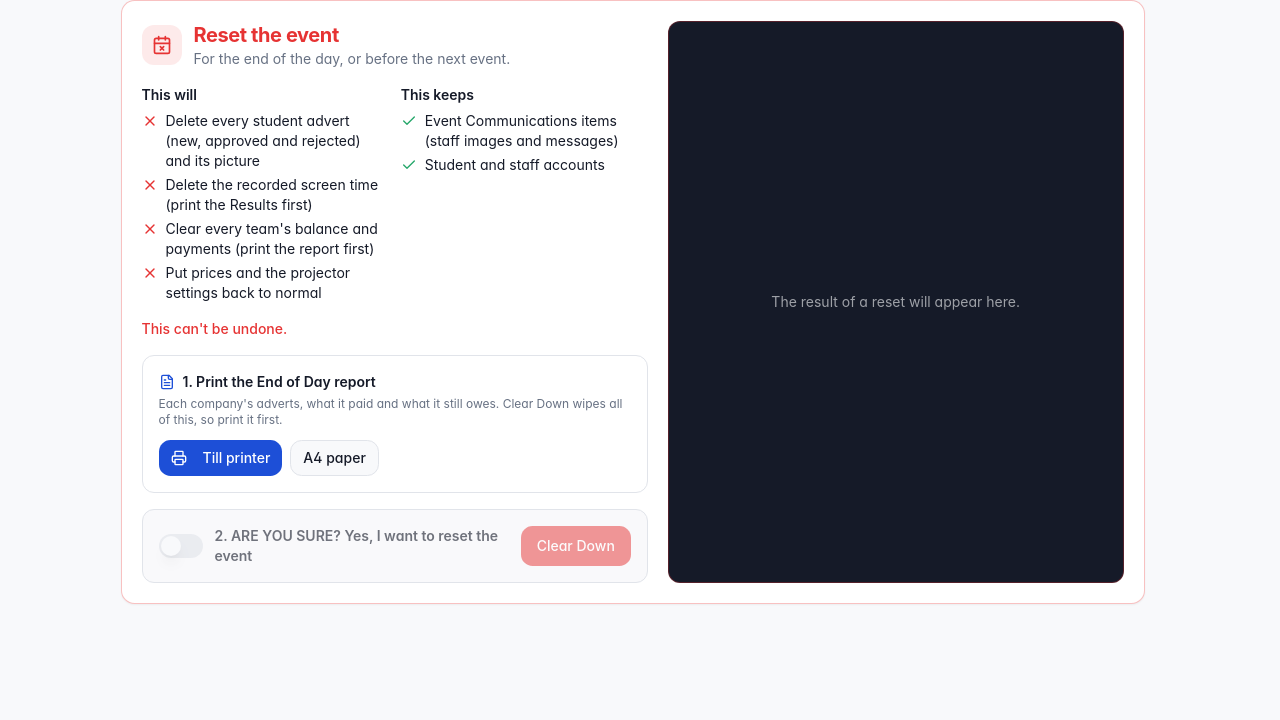
Test: EventResetPanel (issue #34) › cancelling the final question changes nothing
The width and height of the screenshot is (1280, 720).
Click the button "Till printer": [220, 458] box [158, 440, 282, 476]
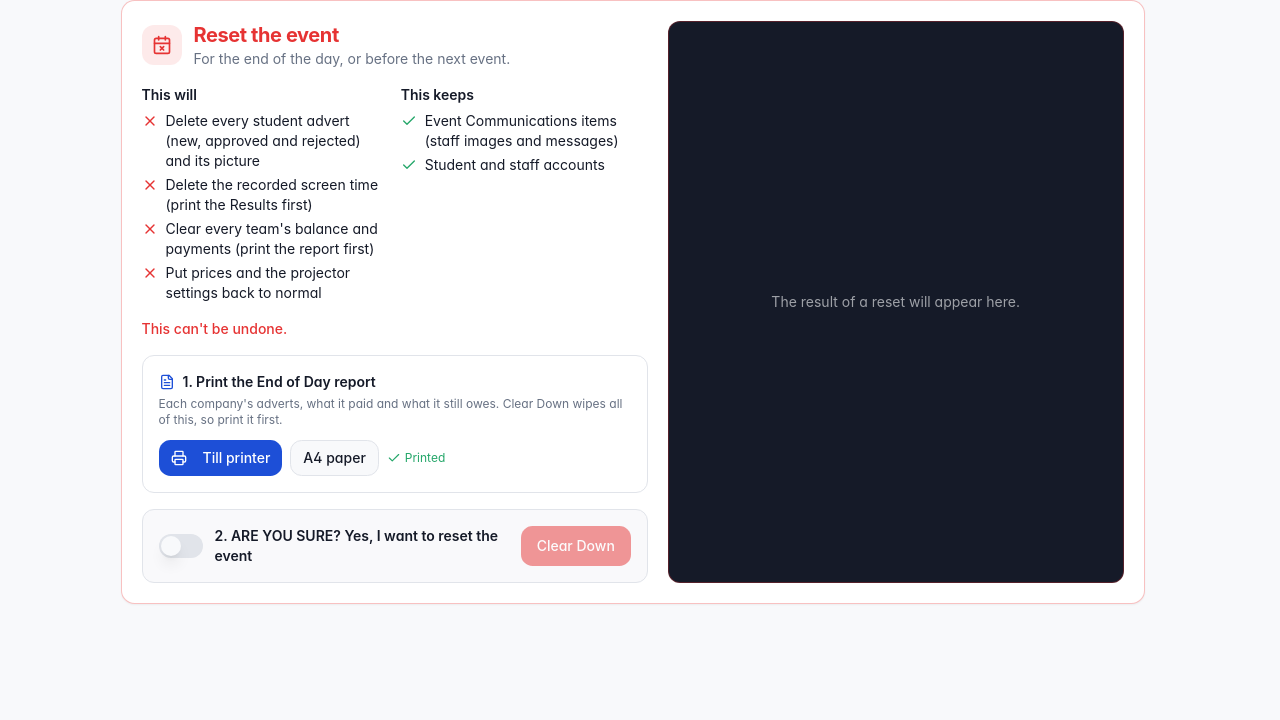
Click the switch named "reset the event": [180, 546] box [158, 534, 202, 558]
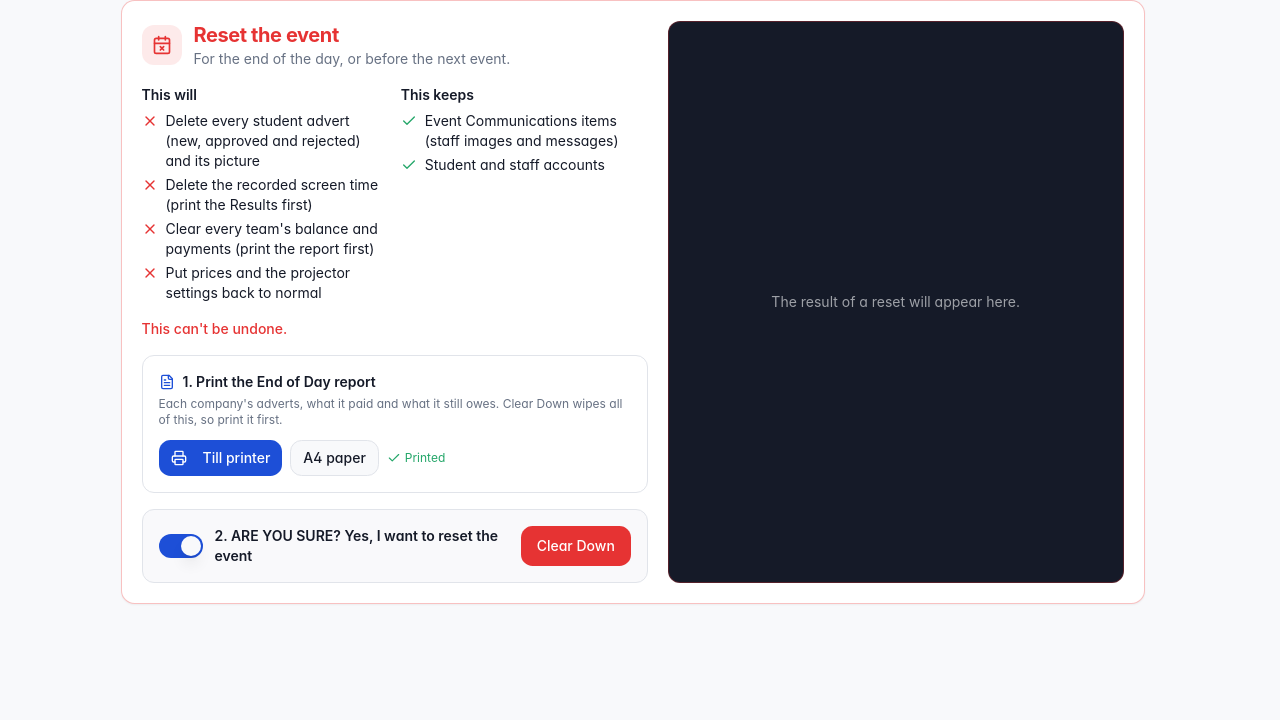
Click the button "Clear Down": [576, 546] box [521, 526, 631, 566]
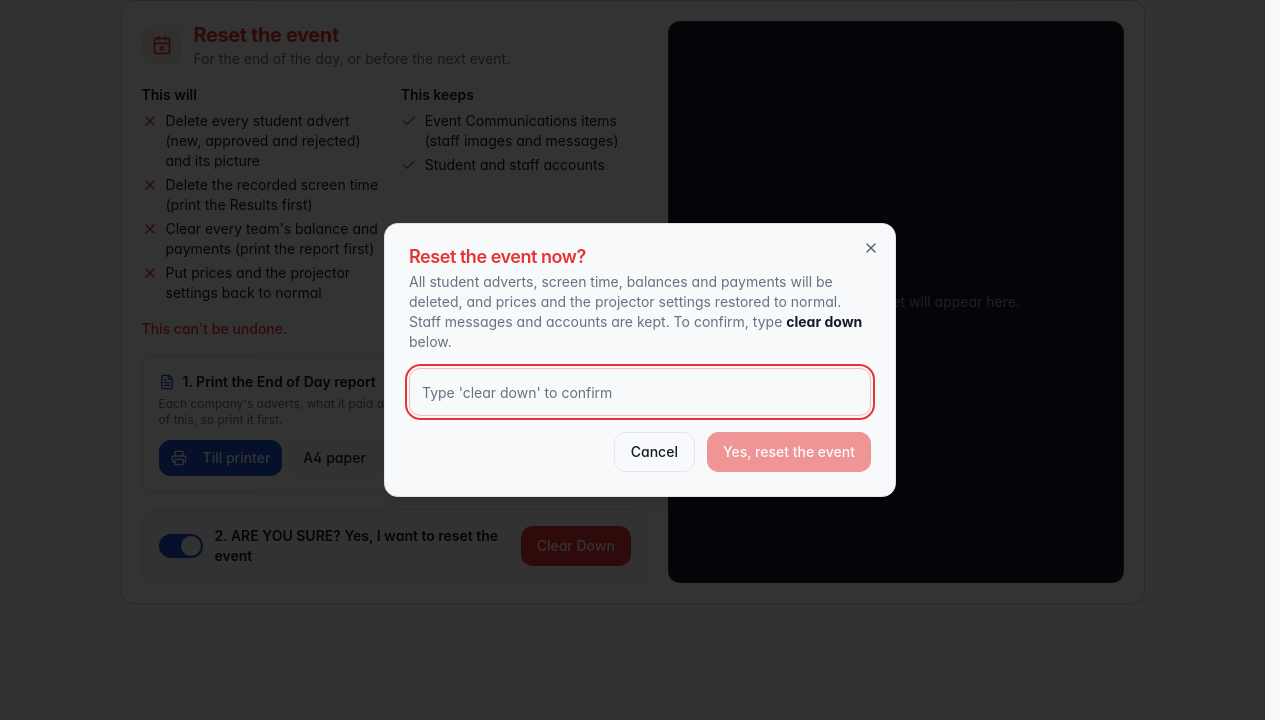
Click the button "Cancel": [654, 452] box [614, 432, 695, 472]
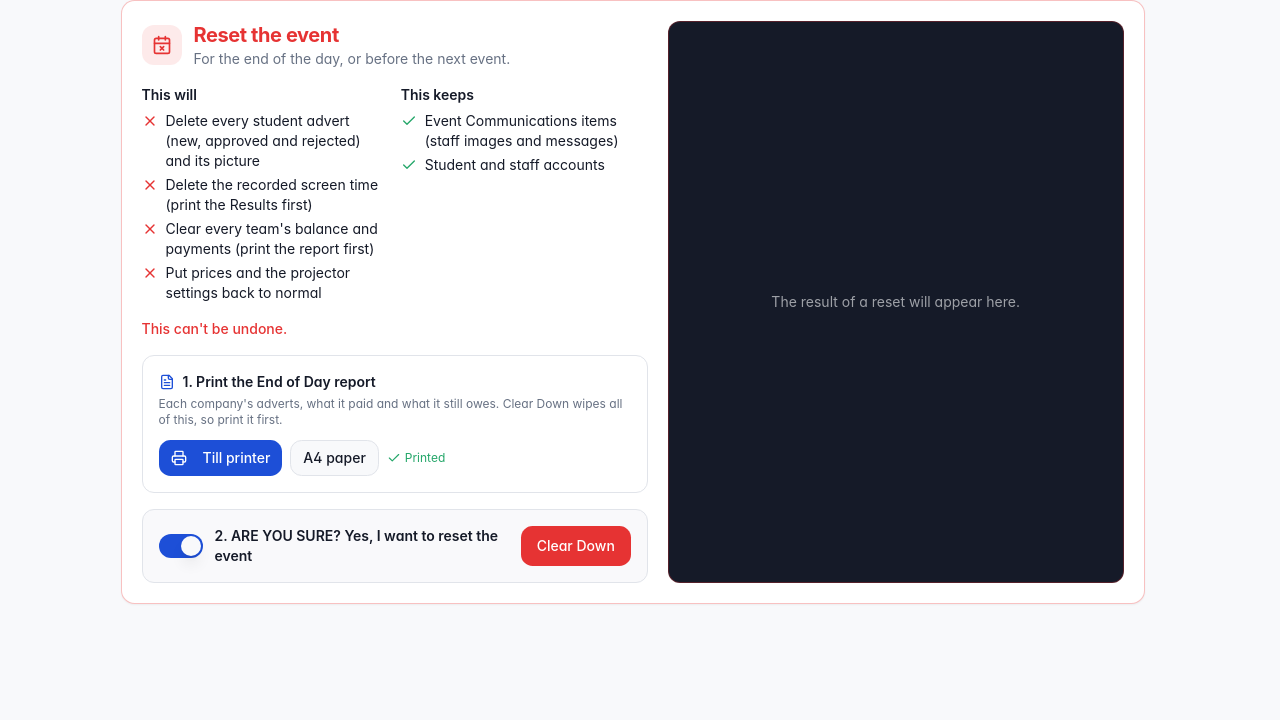
Now the dialog is gone
